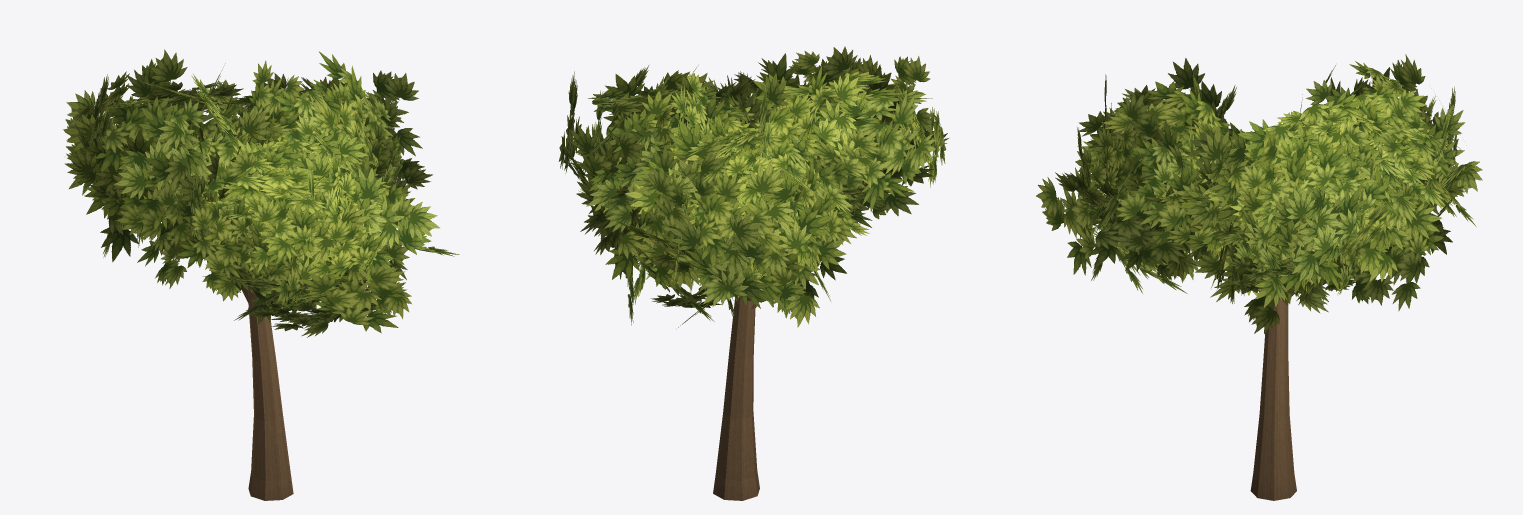
The model's file is tree_broad_b.glb.
3 renders of one model, left to right at view 1: azimuth 30°, elevation 25°; view 2: azimuth 150°, elevation 25°; view 3: azimuth 270°, elevation 25°, orthographic. The views are drawn at different scales.
Parts seen in each view (by area): view 1: tree_broad_b; view 2: tree_broad_b; view 3: tree_broad_b.
Boxes of the visible parts, bbox=[...] form: tree_broad_b: bbox=[63, 49, 459, 500]; tree_broad_b: bbox=[558, 46, 948, 500]; tree_broad_b: bbox=[1036, 54, 1482, 500].
Size of the model in its own units: 6.06 by 6.89 by 7.28.
Materials: 2 (2 with a texture image).
